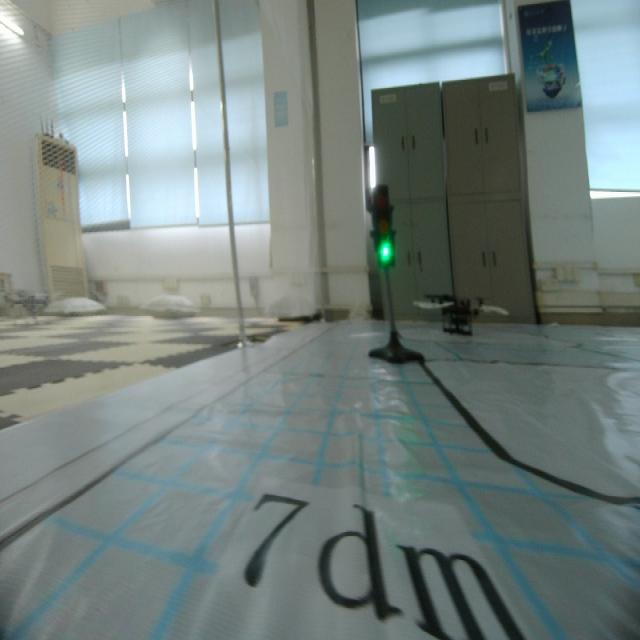green: (365, 189, 399, 273)
